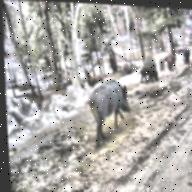boar: (58, 52, 125, 130), (128, 48, 153, 92), (135, 49, 163, 75), (157, 41, 179, 73), (174, 38, 192, 67)
